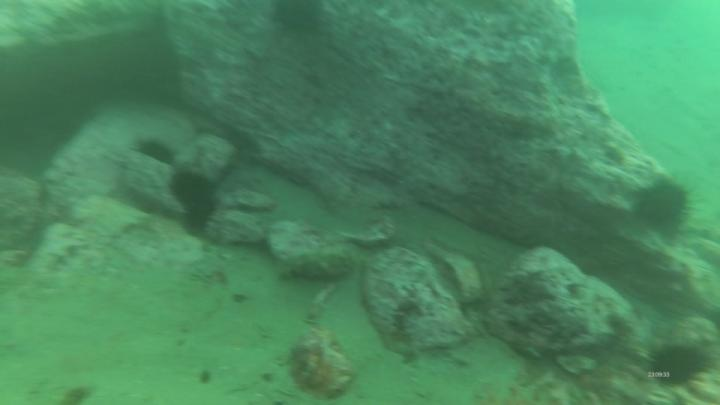echinus: (622, 172, 694, 241), (645, 334, 715, 389), (172, 167, 220, 223)
holothurian: (282, 241, 356, 278)
